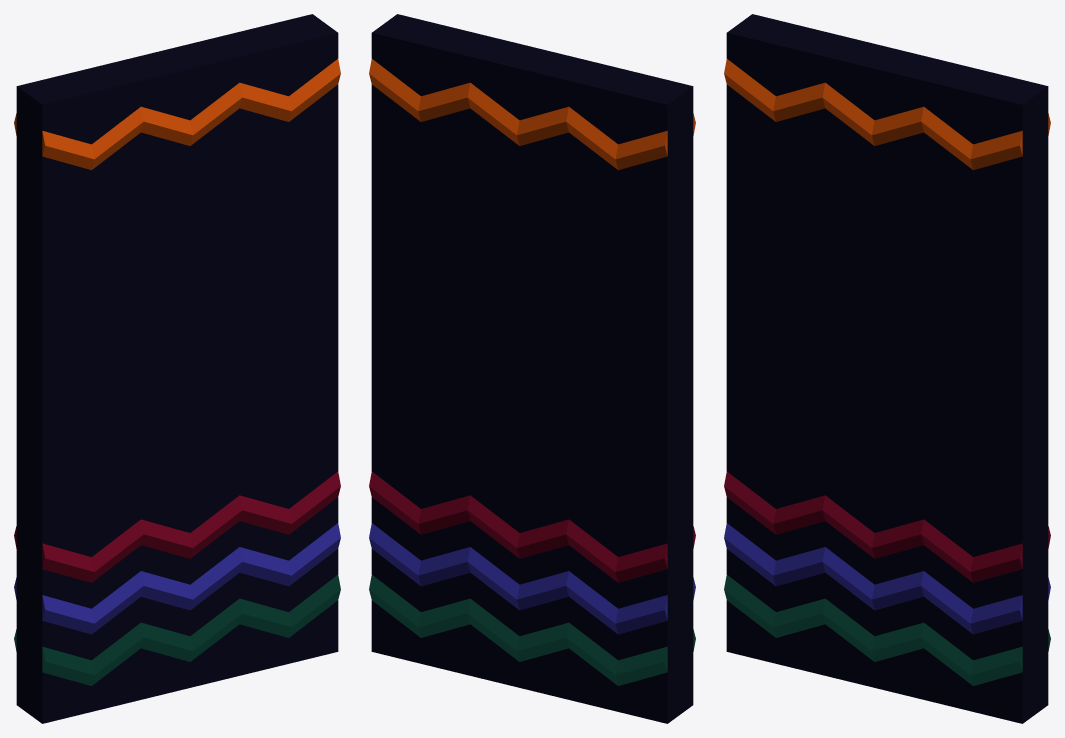
Rendered from ZigzagWall.glb.
3 views of the same model, side by side, from view 1: azimuth 30°, elevation 25°; view 2: azimuth 150°, elevation 25°; view 3: azimuth 330°, elevation 25° (orthographic).
Parts seen in each view (by area): view 1: wall_zigzag; view 2: wall_zigzag; view 3: wall_zigzag.
Boxes of the visible parts, left/top/right/bottom form: wall_zigzag: left=14, top=14, right=340, bottom=723; wall_zigzag: left=369, top=14, right=695, bottom=723; wall_zigzag: left=724, top=14, right=1050, bottom=723.
Size of what is drawn, in the model's own units: 2 by 4 by 0.3655.
2 materials, 2 textured.
